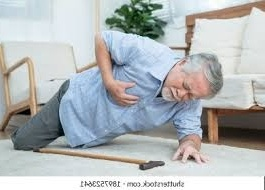fall: (6, 27, 227, 166)
